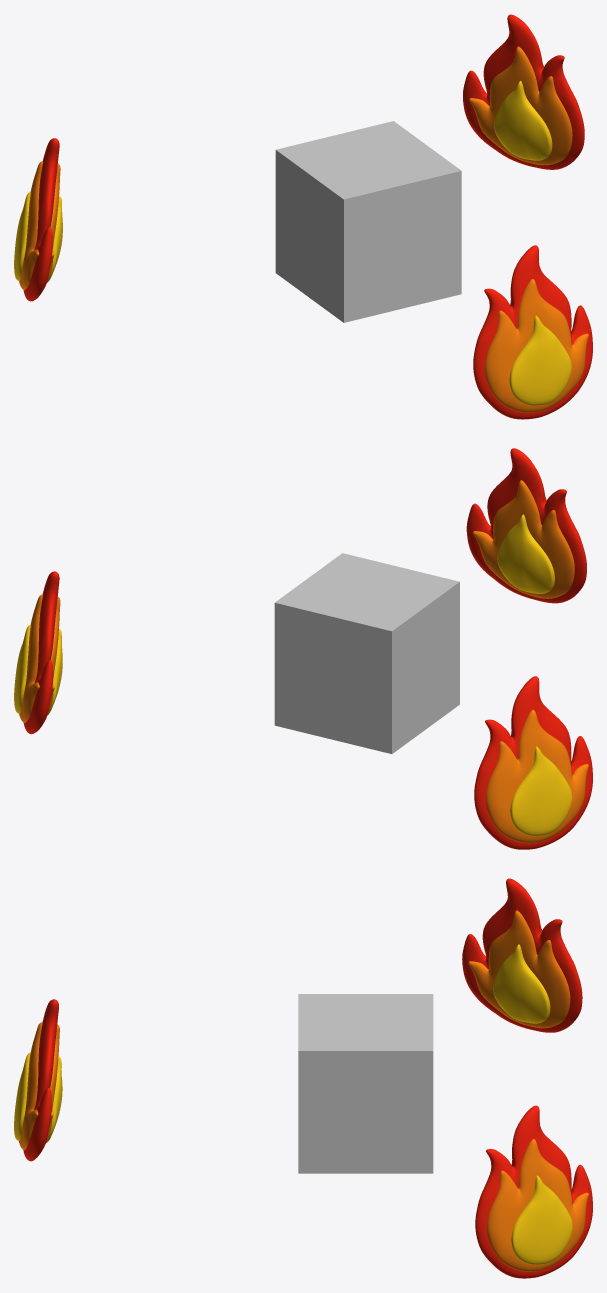
File: Fire_power.obj
3 renders of one model, top to bottom at view 1: azimuth 30°, elevation 25°; view 2: azimuth 150°, elevation 25°; view 3: azimuth 270°, elevation 25°, orthographic.
Visible parts, largest first — view 1: Cube, Cube.001; view 2: Cube, Cube.001; view 3: Cube.001, Cube.
Part boxes in pixels (box(x1,y1,x2,y2)): Cube: box(275, 121, 461, 322); Cube.001: box(14, 14, 592, 419); Cube: box(274, 553, 459, 753); Cube.001: box(14, 448, 592, 849); Cube.001: box(14, 878, 592, 1278); Cube: box(298, 994, 433, 1173).
Size of the model in its own units: 9.42 by 2.58 by 8.57.
